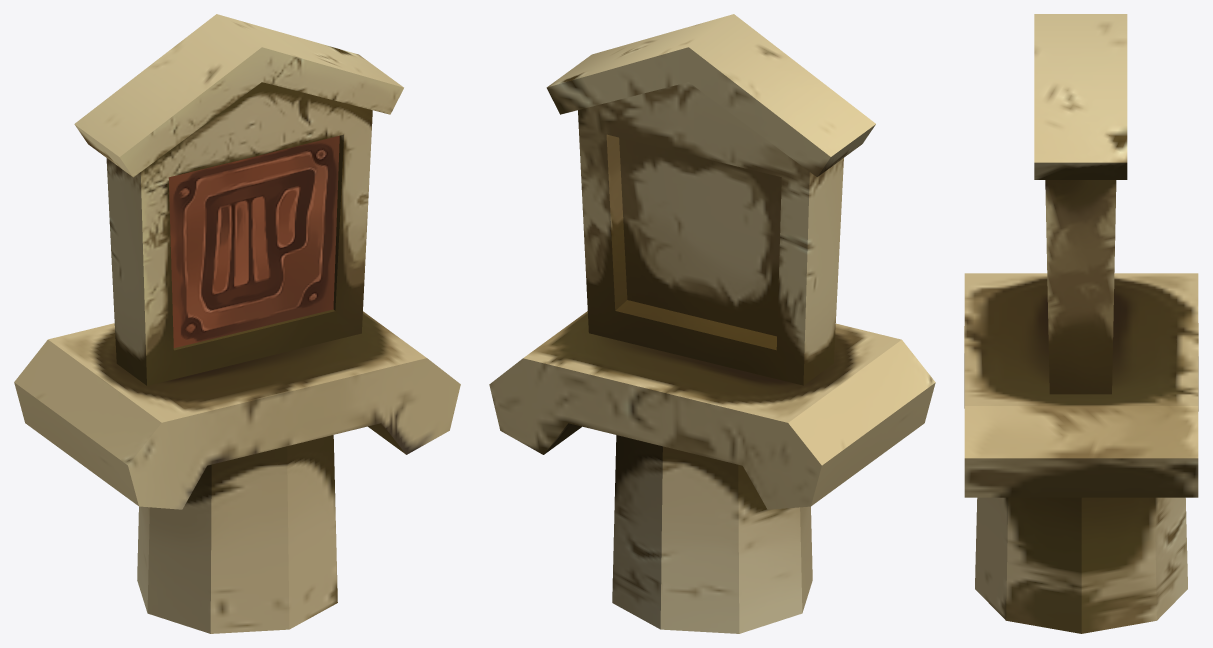
File: Rome_Village_Props_38.FBX
3 views of the same model, side by side, from view 1: azimuth 30°, elevation 25°; view 2: azimuth 150°, elevation 25°; view 3: azimuth 270°, elevation 25° (orthographic). The views are drawn at different scales.
Parts seen in each view (by area): view 1: Rome_Village_Props_38; view 2: Rome_Village_Props_38; view 3: Rome_Village_Props_38.
Boxes of the visible parts, x1,y1,x2,y2 form: Rome_Village_Props_38: [14, 14, 460, 633]; Rome_Village_Props_38: [489, 14, 935, 633]; Rome_Village_Props_38: [964, 14, 1198, 633].
Size of the model in its own units: 151 by 243 by 89.69.
